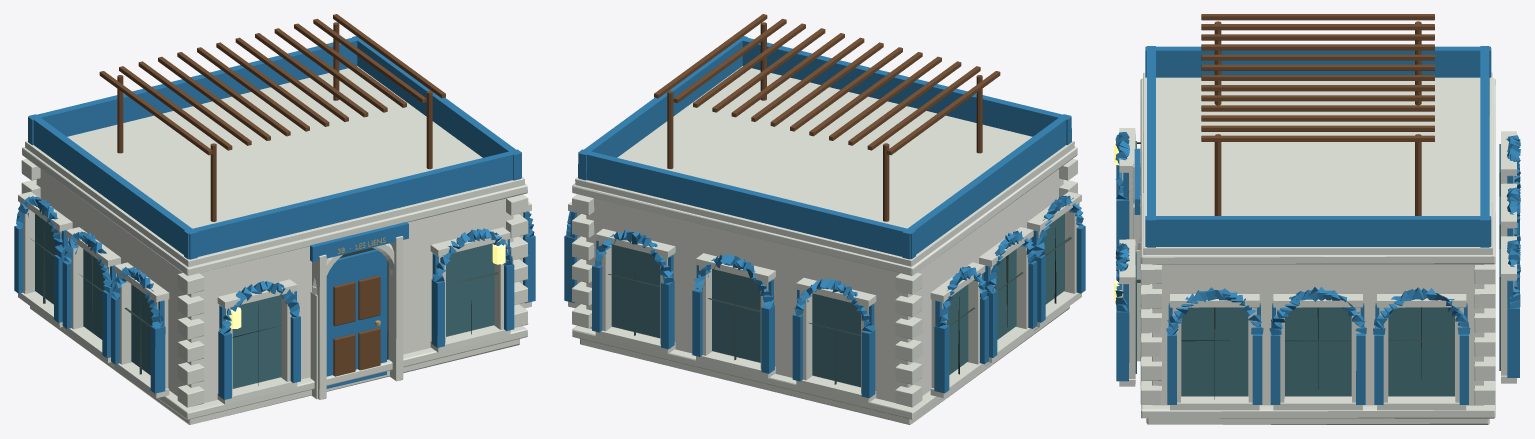
The model's file is tunisie-1-lod.glb.
3 views of the same model, side by side, from view 1: azimuth 30°, elevation 25°; view 2: azimuth 150°, elevation 25°; view 3: azimuth 270°, elevation 25° (orthographic). The views are drawn at different scales.
Visible parts, largest first — view 1: tunisie-1_Dressed stone.001, tunisie-1_Regional painted wood.001, tunisie-1_Walnut.001, tunisie-1_Masonry plaster.001, tunisie-1_Window blue.001, tunisie-1_Forged midnight.001, tunisie-1_Warm light.001; view 2: tunisie-1_Dressed stone.001, tunisie-1_Regional painted wood.001, tunisie-1_Masonry plaster.001, tunisie-1_Window blue.001, tunisie-1_Walnut.001, tunisie-1_Forged midnight.001; view 3: tunisie-1_Dressed stone.001, tunisie-1_Regional painted wood.001, tunisie-1_Walnut.001, tunisie-1_Window blue.001, tunisie-1_Masonry plaster.001, tunisie-1_Forged midnight.001.
Part boxes in pixels (x1=…): tunisie-1_Dressed stone.001: x1=18, y1=66, x2=531, y2=424; tunisie-1_Regional painted wood.001: x1=14, y1=36, x2=535, y2=399; tunisie-1_Walnut.001: x1=99, y1=14, x2=445, y2=376; tunisie-1_Masonry plaster.001: x1=36, y1=169, x2=513, y2=402; tunisie-1_Window blue.001: x1=35, y1=214, x2=494, y2=388; tunisie-1_Forged midnight.001: x1=30, y1=224, x2=498, y2=385; tunisie-1_Warm light.001: x1=229, y1=244, x2=505, y2=328; tunisie-1_Dressed stone.001: x1=568, y1=66, x2=1081, y2=424; tunisie-1_Regional painted wood.001: x1=564, y1=36, x2=1085, y2=398; tunisie-1_Masonry plaster.001: x1=586, y1=169, x2=1063, y2=402; tunisie-1_Window blue.001: x1=611, y1=213, x2=1064, y2=386; tunisie-1_Walnut.001: x1=654, y1=14, x2=1000, y2=221; tunisie-1_Forged midnight.001: x1=608, y1=227, x2=1071, y2=384; tunisie-1_Dressed stone.001: x1=1119, y1=72, x2=1516, y2=424; tunisie-1_Regional painted wood.001: x1=1115, y1=46, x2=1520, y2=404; tunisie-1_Walnut.001: x1=1201, y1=14, x2=1434, y2=215; tunisie-1_Window blue.001: x1=1135, y1=141, x2=1500, y2=396; tunisie-1_Masonry plaster.001: x1=1152, y1=264, x2=1484, y2=405; tunisie-1_Forged midnight.001: x1=1137, y1=142, x2=1454, y2=399.
Size of the model in its own units: 14.2 by 8.66 by 12.2.
